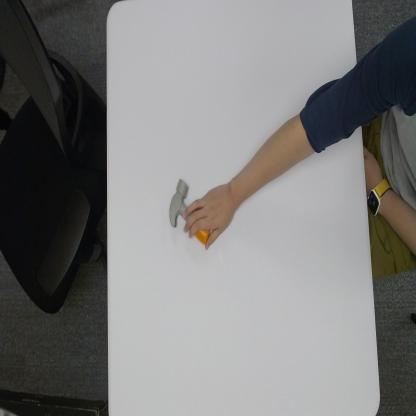Arm: (233, 81, 359, 210)
Hammer: (168, 176, 211, 246)
Hand: (184, 185, 234, 250)
